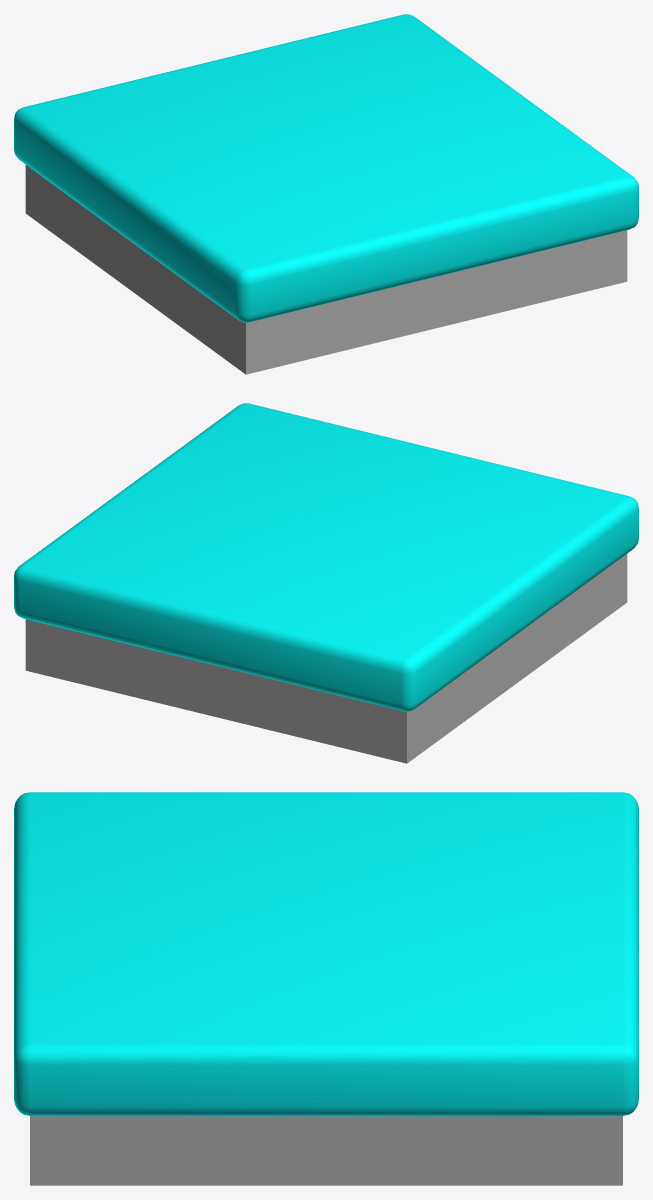
File: Base 1 Low White Cyan.glb
3 renders of one model, top to bottom at view 1: azimuth 30°, elevation 25°; view 2: azimuth 150°, elevation 25°; view 3: azimuth 270°, elevation 25°, orthographic. The views are drawn at different scales.
Parts seen in each view (by area): view 1: Base_1_Low_White_; view 2: Base_1_Low_White_; view 3: Base_1_Low_White_.
Part boxes in pixels (bbox=[...]): Base_1_Low_White_: bbox=[14, 14, 638, 374]; Base_1_Low_White_: bbox=[14, 403, 638, 763]; Base_1_Low_White_: bbox=[14, 792, 638, 1185].
Bounding box in the file's own units: 7.98 × 2 × 7.98.
